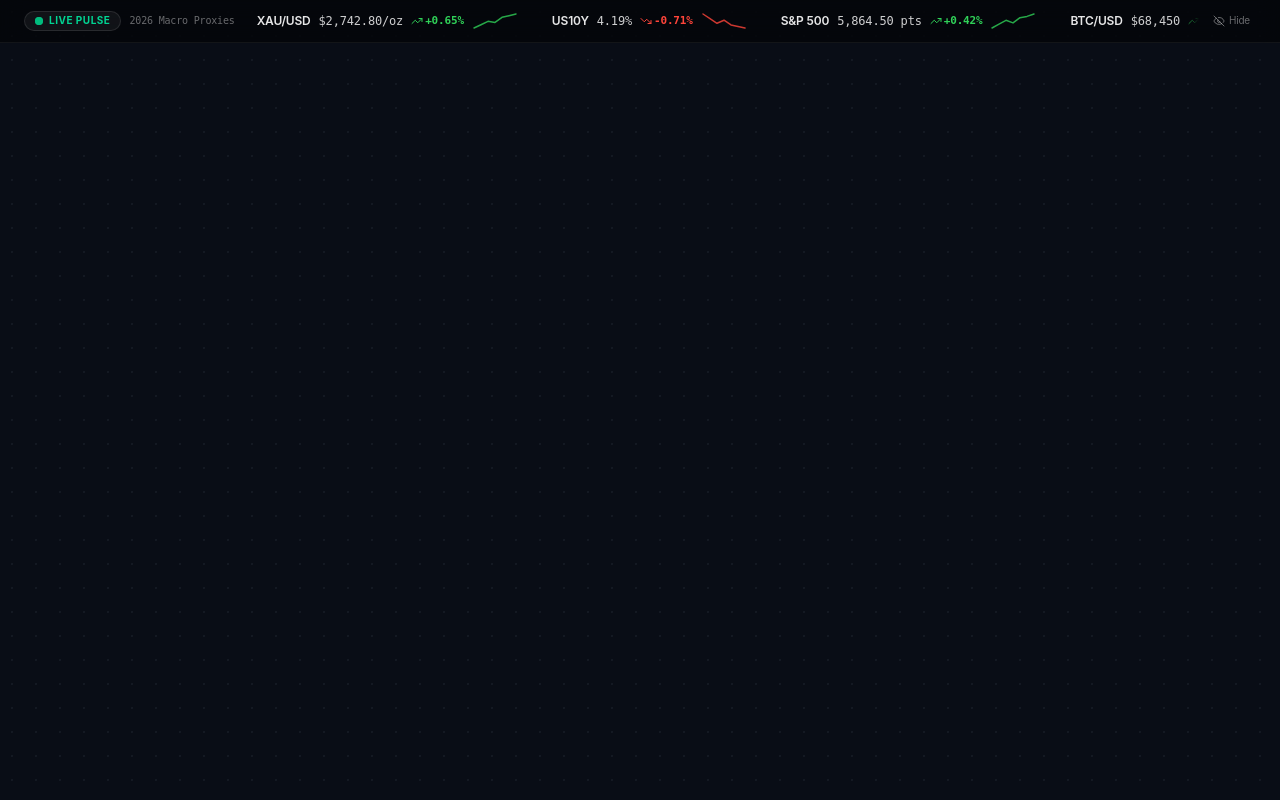
Test: MarketPulseTicker Component › opens detailed macro intelligence modal when a benchmark is clicked
What coordinates should you click on to do the following:
click the button "XAU/USD $2,742.80/oz +0.65%"
I would click on:
 (386, 21)
Its box is [247,8,526,34].
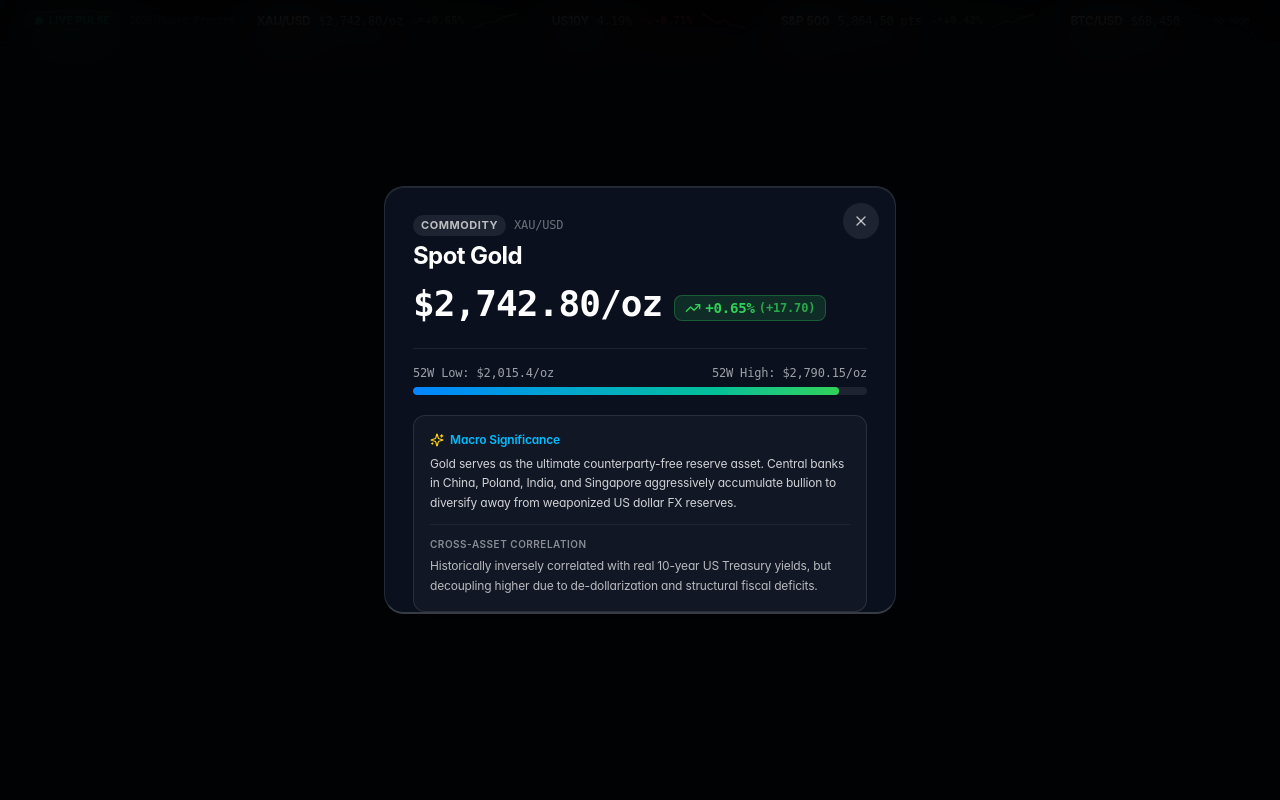
Check: the dialog is shown
Check: the heading "Spot Gold" is shown, box [413,240,522,270]
Check: the text "counterparty-free reserve asset" is shown, box [430,456,844,510]
